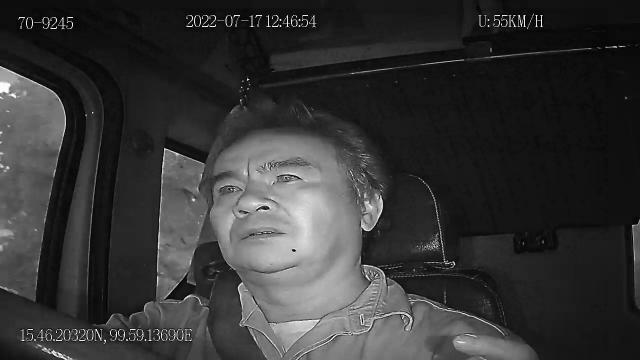SafeDriving: (265, 162, 312, 192), (212, 174, 250, 202)
Seatbelt: (206, 270, 270, 360)
